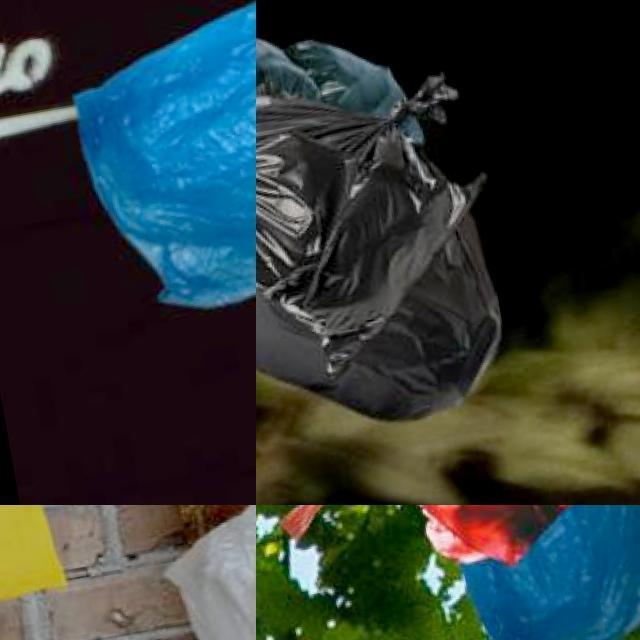waste: (256, 93, 519, 464), (256, 50, 516, 406), (45, 0, 256, 339), (401, 505, 640, 640), (169, 505, 256, 640), (0, 505, 71, 633)
